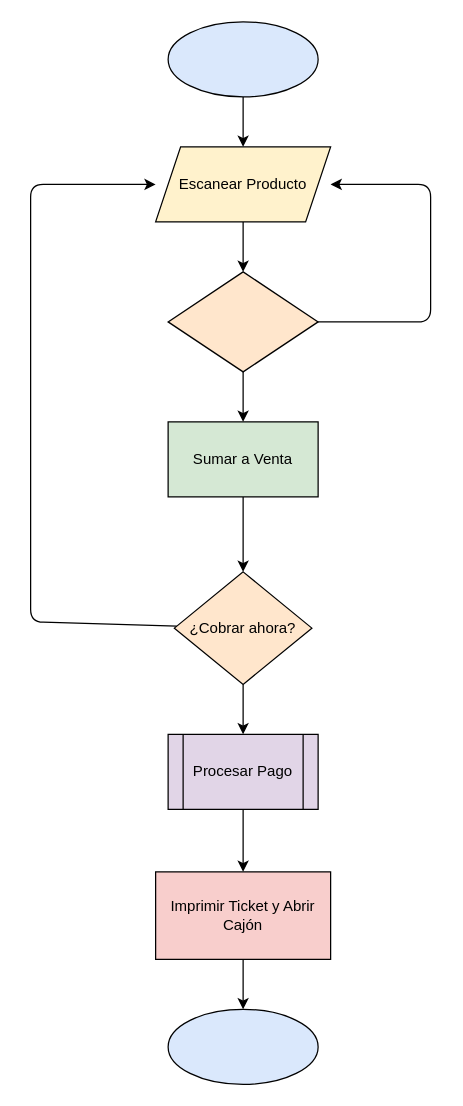
The diagram is 463 pixels wide and 1106 high, and some of its shapes have lost their labels. Here are the shapes that lost their labels. From the top down, the box of each, then its label:
(167, 21, 318, 97): Inicio de Venta
(167, 271, 318, 372): ¿Existe en DB?
(167, 1008, 318, 1084): Fin
